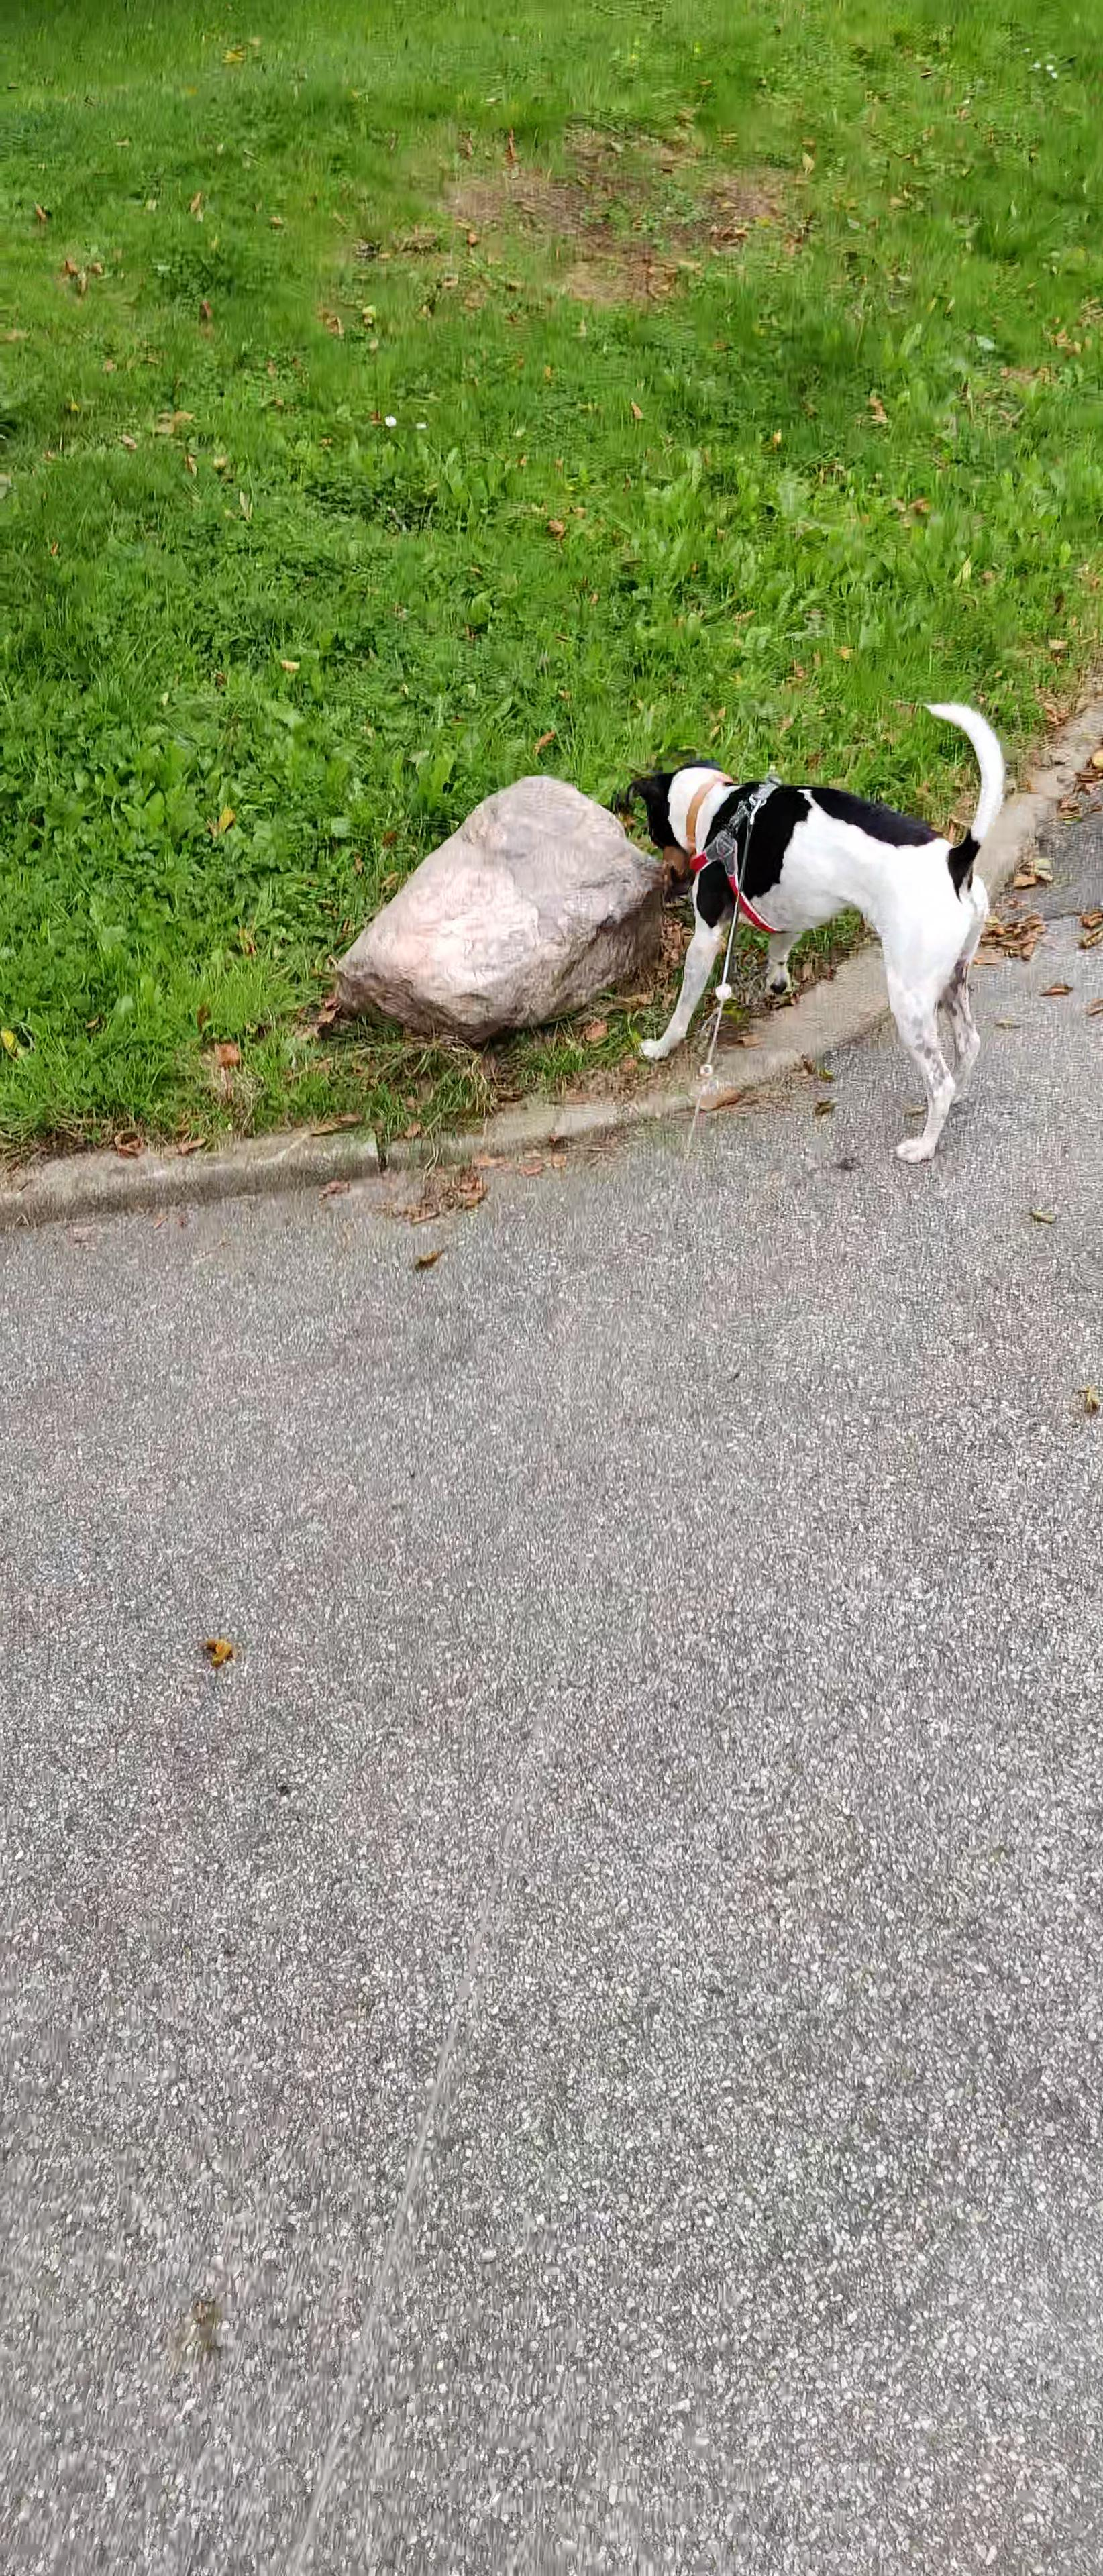Dog: (610, 672, 1022, 1180)
